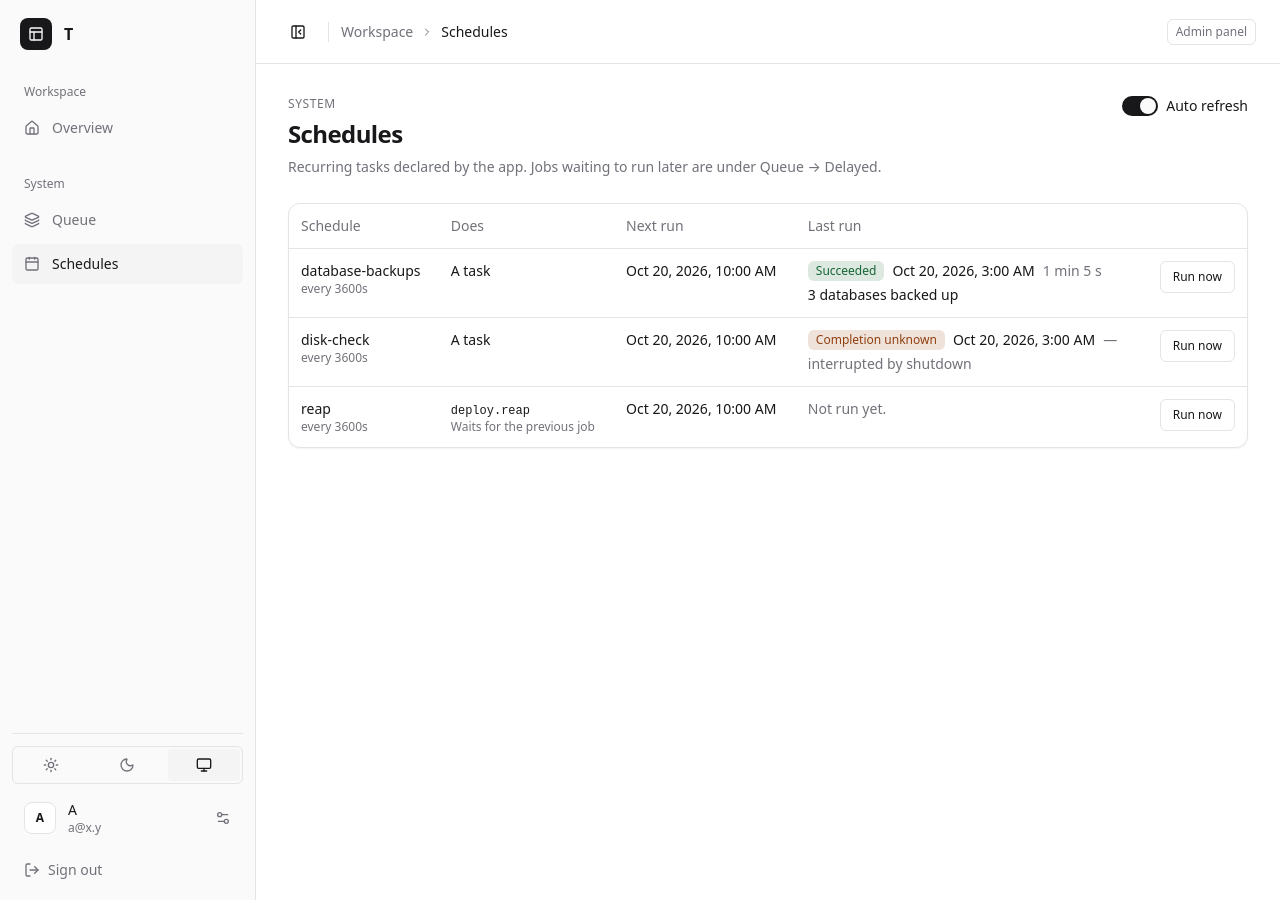
Schedules › lists schedules with their next and last runs, and runs one now after a confirmation
Expected: the text "Jobs waiting to run later are under Queue → Delayed" is shown, left=288, top=157, right=881, bottom=176
Expected: the text "3 databases backed up" is shown, left=808, top=285, right=958, bottom=304
Click the button "Run now" in the row of "Succeeded": click(1197, 277) left=1160, top=261, right=1235, bottom=293
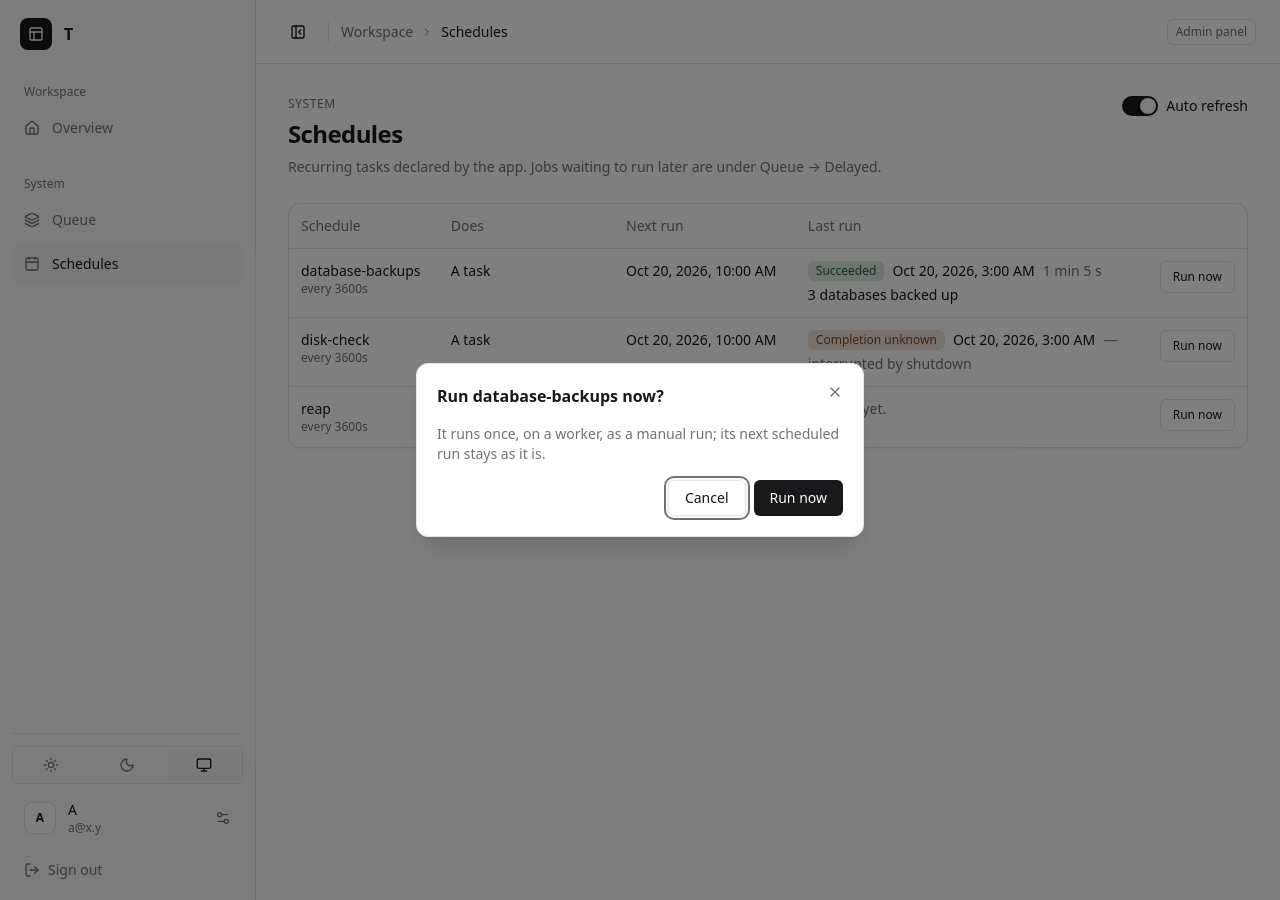
Click the button "Run now": click(798, 498) left=754, top=480, right=843, bottom=516
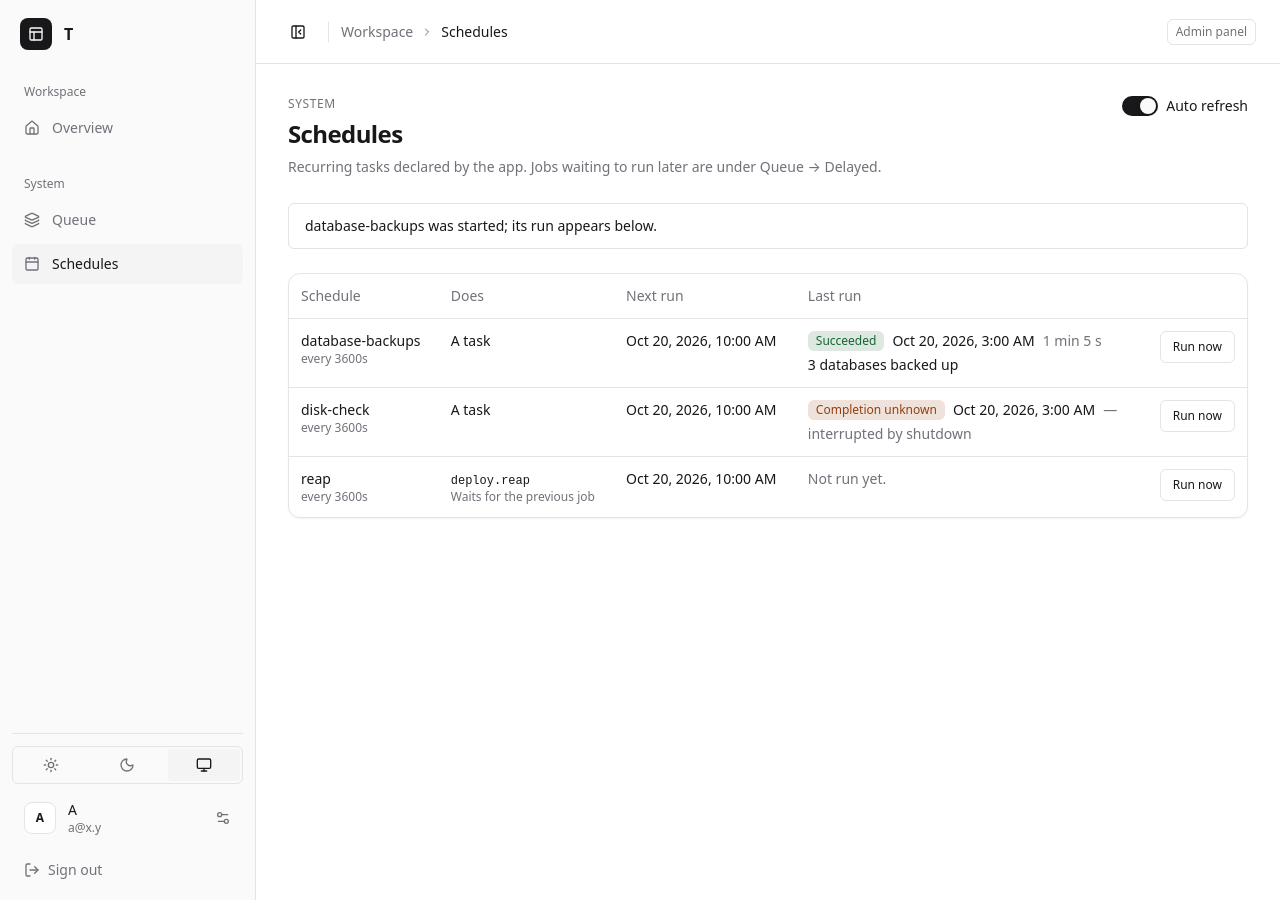
Expected: the text "database-backups was started; its run appears below." is shown, left=288, top=203, right=1248, bottom=249
